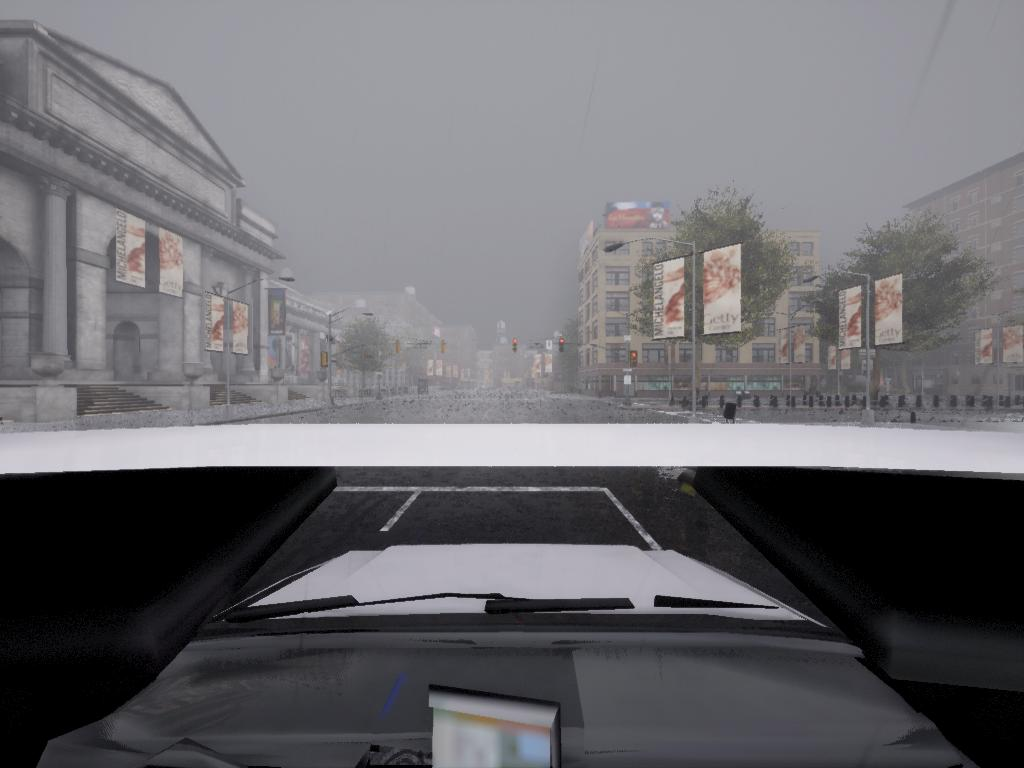traffic_light: (631, 351, 639, 369), (397, 339, 404, 356), (511, 341, 519, 355), (440, 340, 447, 355), (361, 345, 367, 361), (322, 352, 328, 368), (560, 339, 565, 354)
